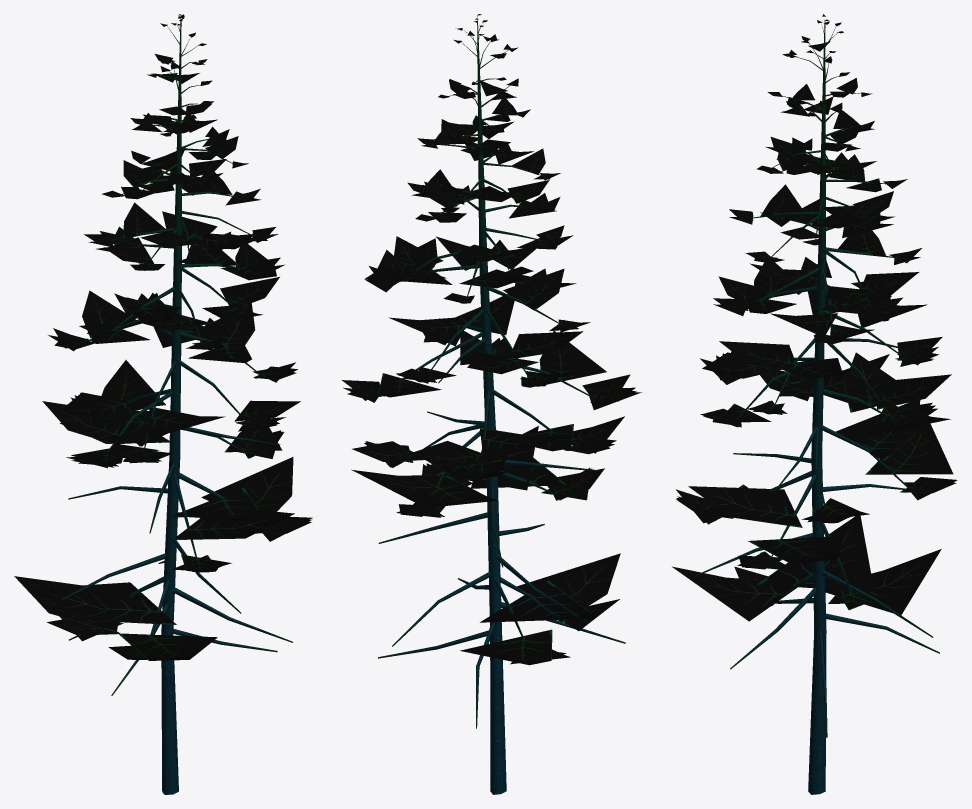
Rendered from Douglas_Fir_G.glb.
3 renders of one model, left to right at view 1: azimuth 30°, elevation 25°; view 2: azimuth 150°, elevation 25°; view 3: azimuth 270°, elevation 25°, orthographic.
Parts seen in each view (by area): view 1: G_LOD0; view 2: G_LOD0; view 3: G_LOD0.
Boxes of the visible parts, left/top/right/bottom form: G_LOD0: left=14, top=14, right=312, bottom=794; G_LOD0: left=342, top=14, right=642, bottom=794; G_LOD0: left=672, top=14, right=957, bottom=794.
Size of what is drawn, in the model's own units: 7.24 by 21.03 by 6.97.
2 materials, 2 textured.
